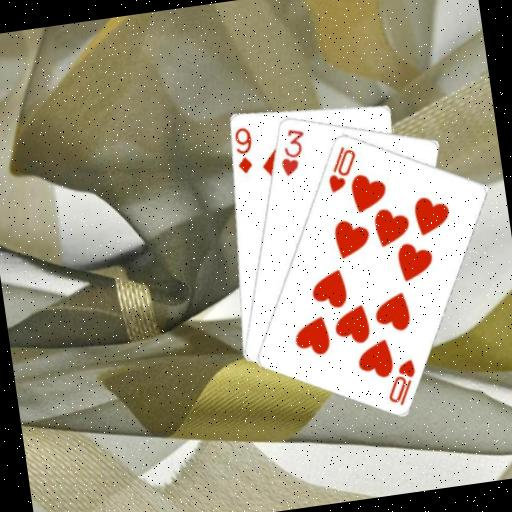10H: (320, 141, 362, 195), (380, 355, 422, 409)
3H: (273, 124, 311, 179)
9D: (229, 123, 257, 176)
